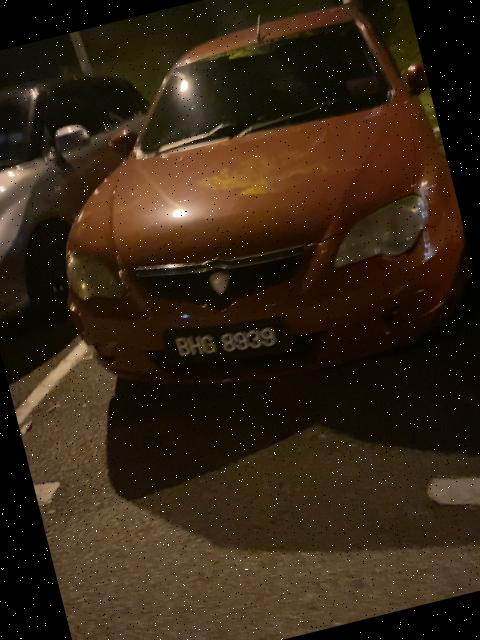License_Plate: (165, 303, 295, 381)
car: (12, 1, 480, 427)
